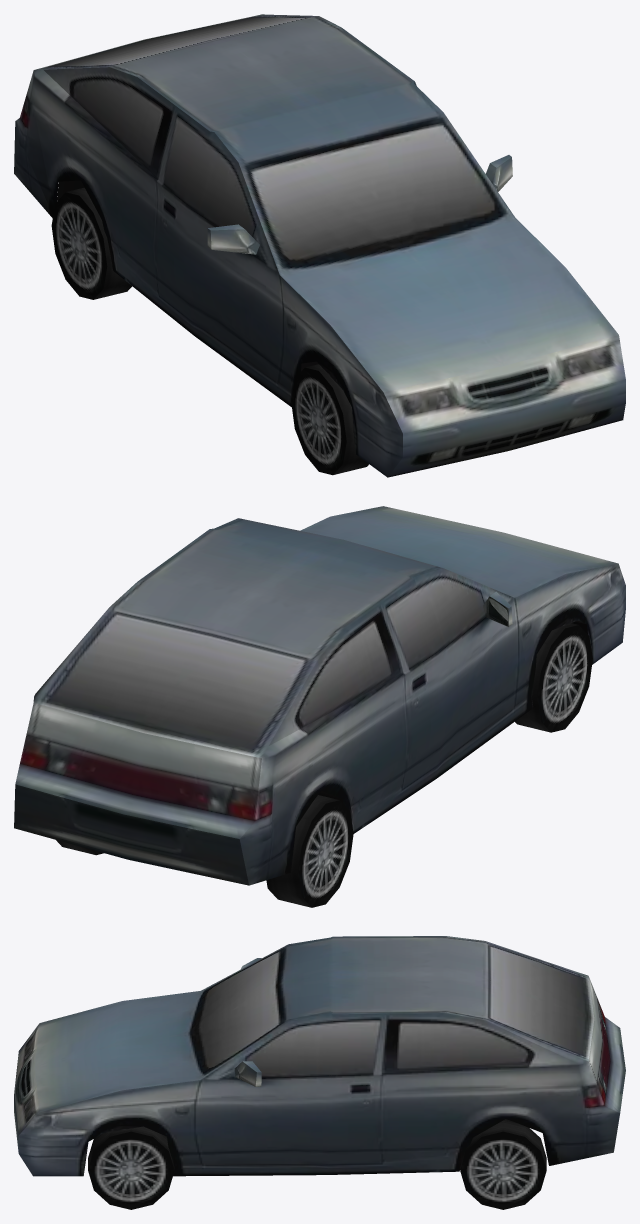
The model's file is sedan_grey.glb.
The picture shows the model from 3 angles, top to bottom: view 1: azimuth 30°, elevation 25°; view 2: azimuth 150°, elevation 25°; view 3: azimuth 270°, elevation 25°; orthographic projection. The views are drawn at different scales.
Visible parts, largest first — view 1: Body; view 2: Body; view 3: Body.
Part boxes in pixels (x1,y1,x2,y2): Body: [14, 14, 625, 477]; Body: [14, 506, 625, 907]; Body: [14, 936, 625, 1209].
Size of the model in its own units: 1.87 by 1.44 by 4.23.
Materials: 3 (2 with a texture image).
